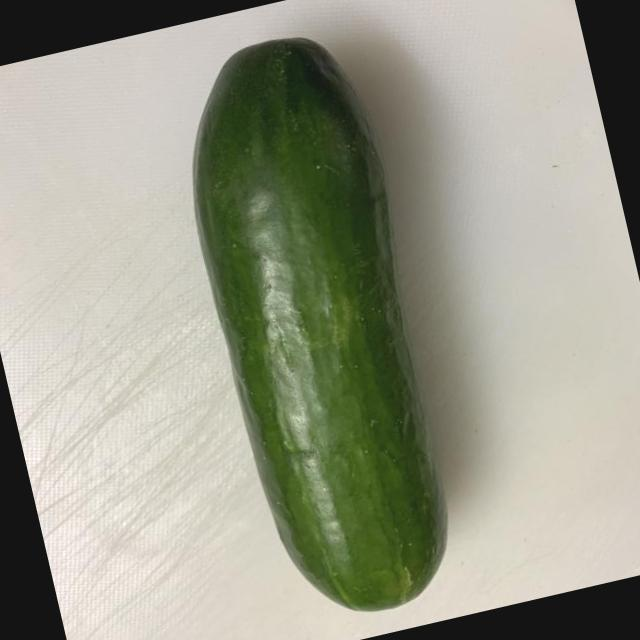Cucumber: (161, 11, 496, 633)
